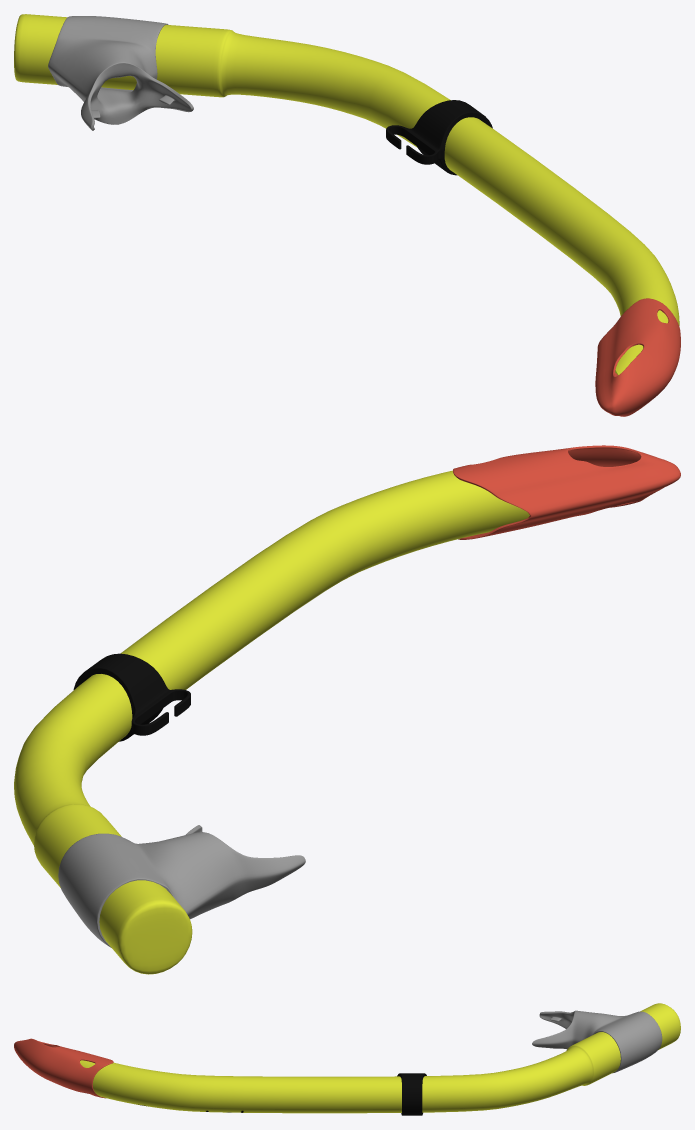
File: 13513_Childs_Snorkel_v1_l3.obj
The picture shows the model from 3 angles, top to bottom: view 1: azimuth 30°, elevation 25°; view 2: azimuth 150°, elevation 25°; view 3: azimuth 270°, elevation 25°; orthographic projection. The views are drawn at different scales.
Visible parts, largest first — view 1: Child_s_Snorkel_1, Child_s_Snorkel_5, Child_s_Snorkel_2, Child_s_Snorkel_3; view 2: Child_s_Snorkel_1, Child_s_Snorkel_5, Child_s_Snorkel_2, Child_s_Snorkel_3; view 3: Child_s_Snorkel_1, Child_s_Snorkel_5, Child_s_Snorkel_2, Child_s_Snorkel_3.
Boxes of the visible parts, left/top/right/bottom form: Child_s_Snorkel_1: left=14, top=14, right=679, bottom=375; Child_s_Snorkel_5: left=48, top=16, right=193, bottom=130; Child_s_Snorkel_2: left=595, top=298, right=680, bottom=416; Child_s_Snorkel_3: left=386, top=100, right=492, bottom=175; Child_s_Snorkel_1: left=14, top=470, right=529, bottom=974; Child_s_Snorkel_5: left=58, top=825, right=305, bottom=947; Child_s_Snorkel_2: left=453, top=445, right=680, bottom=539; Child_s_Snorkel_3: left=73, top=653, right=190, bottom=741; Child_s_Snorkel_1: left=80, top=1003, right=680, bottom=1113; Child_s_Snorkel_5: left=532, top=1010, right=662, bottom=1073; Child_s_Snorkel_2: left=14, top=1038, right=113, bottom=1098; Child_s_Snorkel_3: left=397, top=1073, right=426, bottom=1115.
Size of the model in its own units: 10.82 by 2.34 by 34.08.
4 materials, 1 textured.
